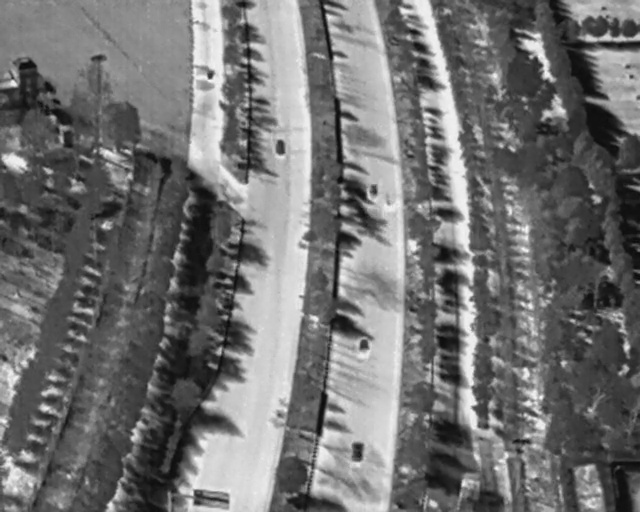Car: (351, 441, 364, 461), (275, 140, 284, 155), (360, 337, 368, 353), (369, 183, 377, 197)
